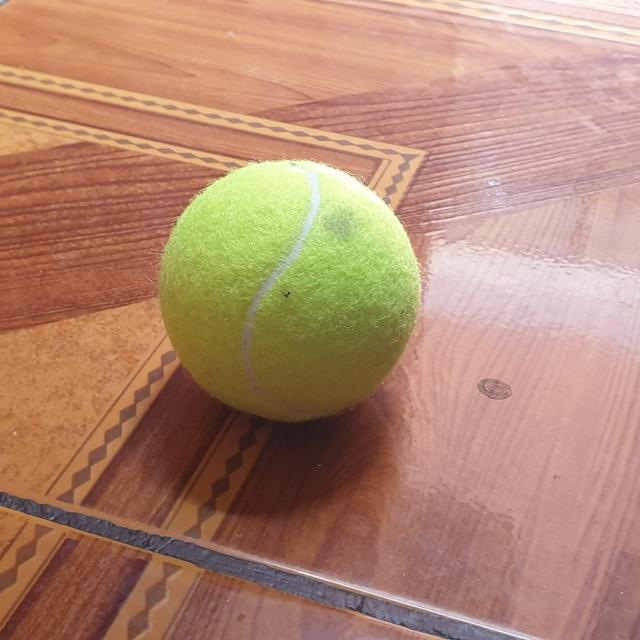ball: (158, 157, 422, 424)
